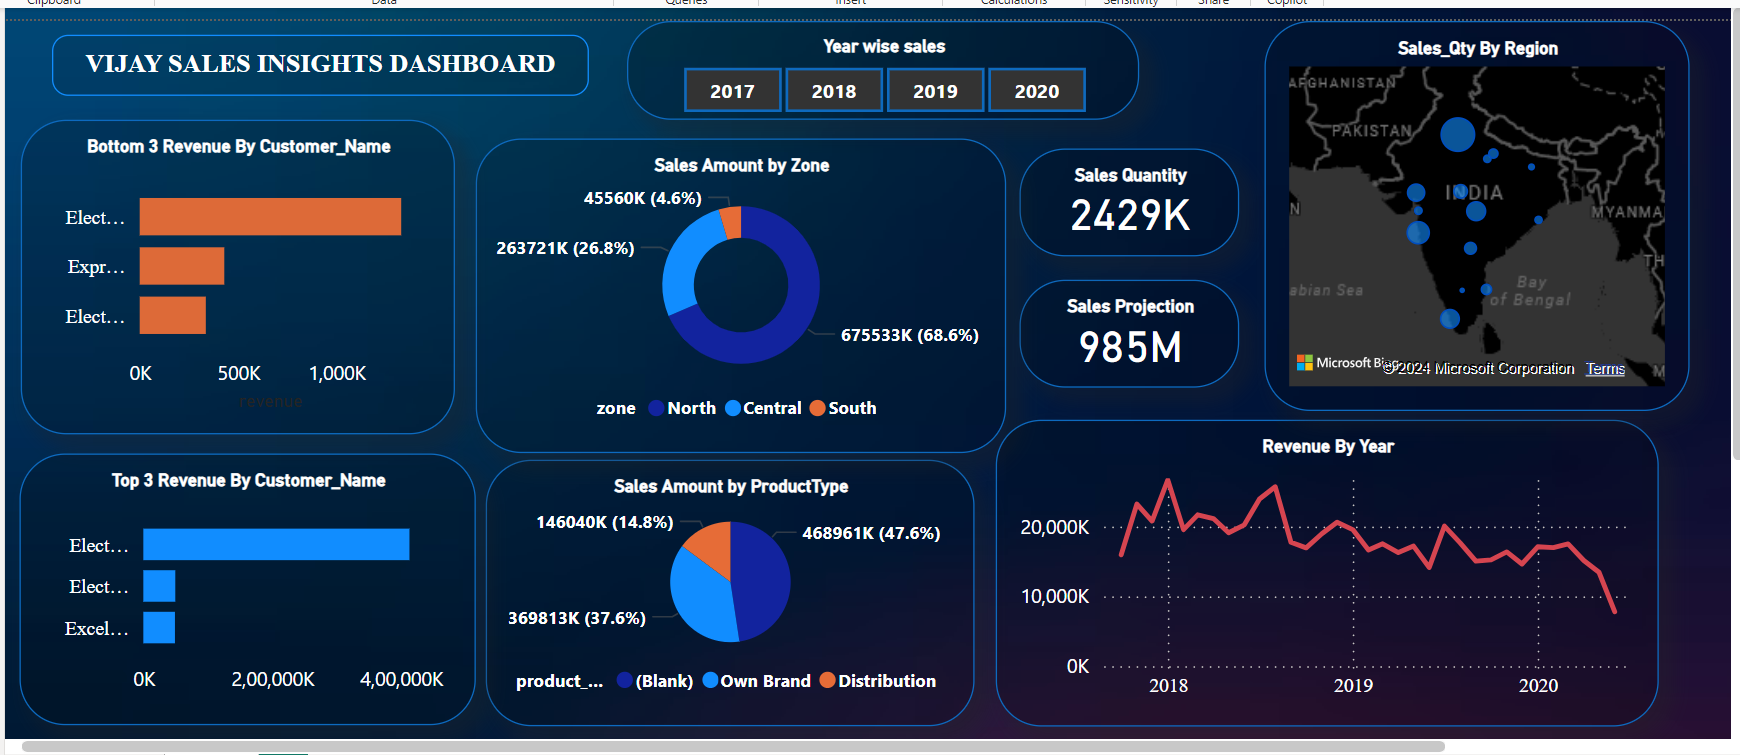

This screenshot's page, from the dashboard's own definition file:
{"tool":"powerbi","page":{"name":"Page 1","canvas":[1280,720],"ordinal":0},"visuals":[{"type":"slicer","title":"Year wise sales","fields":{"Values":["date.year"]},"box":[387.7,0,315.4,60.8],"z":0},{"type":"card","title":"Sales Projection","fields":{"Values":["Basemeasures.revenue"]},"box":[629.2,159.2,135.4,66.2],"z":1000},{"type":"card","title":"Sales Quantity","fields":{"Values":["Basemeasures.salesquantity"]},"box":[629.2,78.5,135.4,66.2],"z":2000},{"type":"pieChart","title":"Sales Amount by ProductType","fields":{"Y":["Sum(transactions.sales_amount)"],"Category":["products.product_type"]},"box":[300.8,270,300.8,163.8],"z":3000},{"type":"donutChart","title":"Sales Amount by Zone","fields":{"Category":["markets.zone"],"Y":["Sum(transactions.sales_amount)"]},"box":[294.6,72.3,326.2,193.8],"z":4000},{"type":"lineChart","title":"Revenue By Year","fields":{"Y":["Basemeasures.revenue"],"Category":["date.cy_date.Variation.Date Hierarchy.Year","date.cy_date.Variation.Date Hierarchy.Quarter","date.cy_date.Variation.Date Hierarchy.Month","date.cy_date.Variation.Date Hierarchy.Day"]},"box":[614.6,245.4,407.7,188.5],"z":5000},{"type":"clusteredBarChart","title":"Bottom 3 Revenue By Customer_Name","fields":{"Y":["Basemeasures.revenue"],"Category":["customers.custmer_name"]},"box":[14.6,60.8,266.9,193.8],"z":6000},{"type":"clusteredBarChart","title":"Top 3 Revenue By Customer_Name","fields":{"Y":["Basemeasures.revenue"],"Category":["customers.custmer_name"]},"box":[13.8,266.2,280.8,166.9],"z":7000},{"type":"map","title":" Sales_Qty By Region","fields":{"Category":["markets.markets_name"],"Size":["Sum(transactions.sales_qty)"]},"box":[780,0,261.5,240],"z":8000},{"type":"textbox","box":[33.8,8.5,330.8,37.7],"z":9000}]}

Visuals, with their boxes on the page's 1280x720 design canvas (x1, y1, x2, y2). These are canvas units, not pixel positions in the 1740x755 screenshot, which may show the page scaled, cropped or inside an application window:
"Year wise sales" slicer: l=388, t=0, r=703, b=61
"Sales Projection" card: l=629, t=159, r=765, b=225
"Sales Quantity" card: l=629, t=78, r=765, b=145
"Sales Amount by ProductType" pieChart: l=301, t=270, r=602, b=434
"Sales Amount by Zone" donutChart: l=295, t=72, r=621, b=266
"Revenue By Year" lineChart: l=615, t=245, r=1022, b=434
"Bottom 3 Revenue By Customer_Name" clusteredBarChart: l=15, t=61, r=282, b=255
"Top 3 Revenue By Customer_Name" clusteredBarChart: l=14, t=266, r=295, b=433
" Sales_Qty By Region" map: l=780, t=0, r=1042, b=240
textbox: l=34, t=8, r=365, b=46
